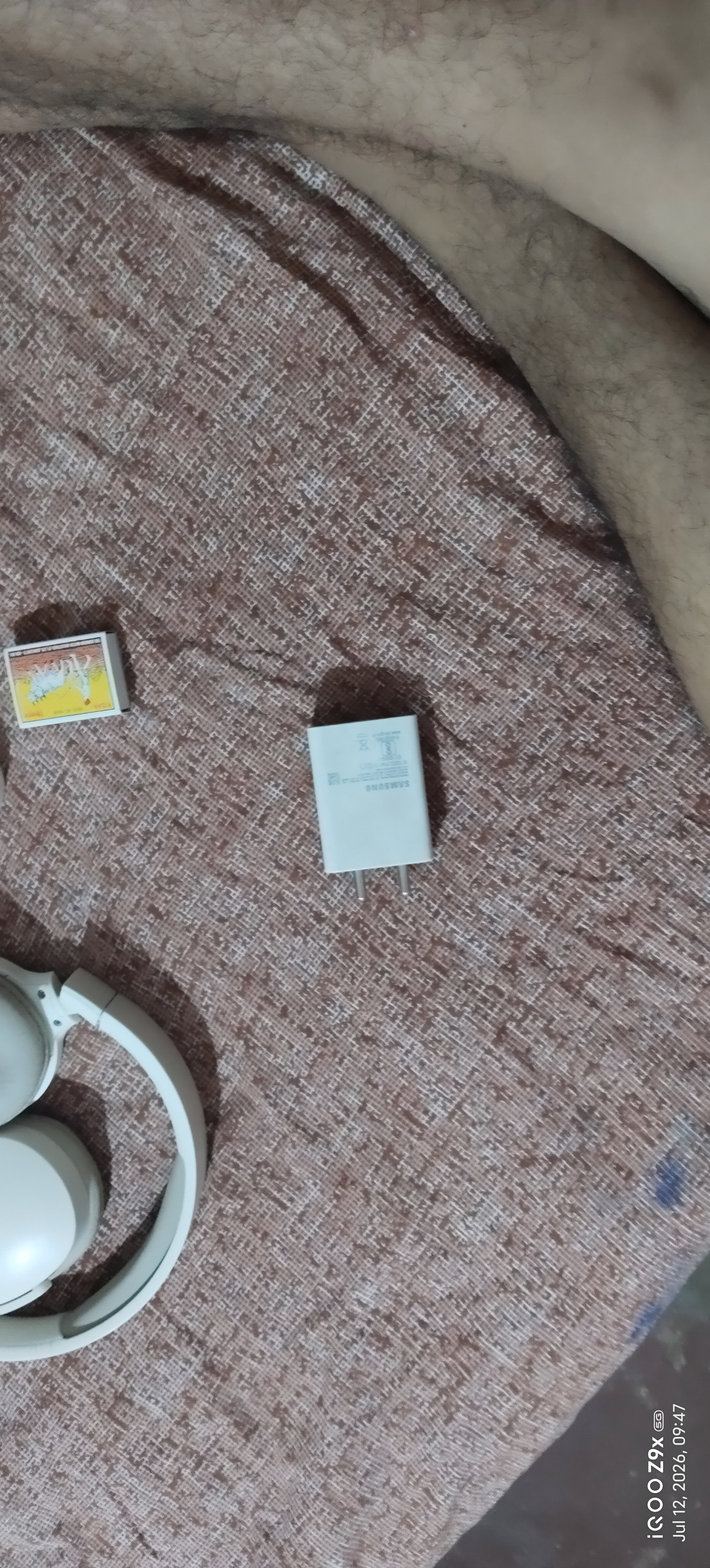charger: (293, 707, 464, 913)
matchbox: (0, 609, 129, 763)
